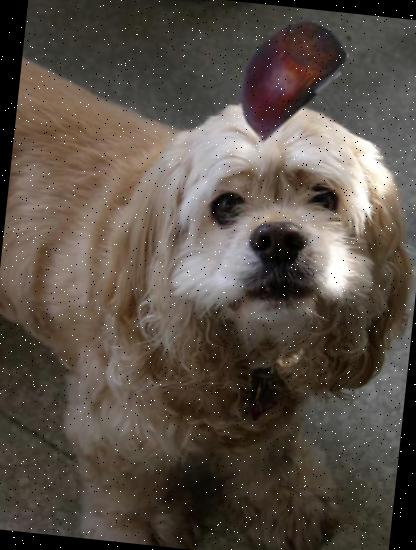Chestnut: (212, 3, 356, 146)
